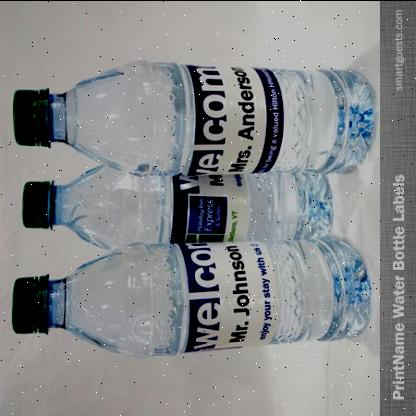Plastic Bottle: (12, 239, 371, 356), (13, 60, 375, 174), (22, 165, 333, 248)
